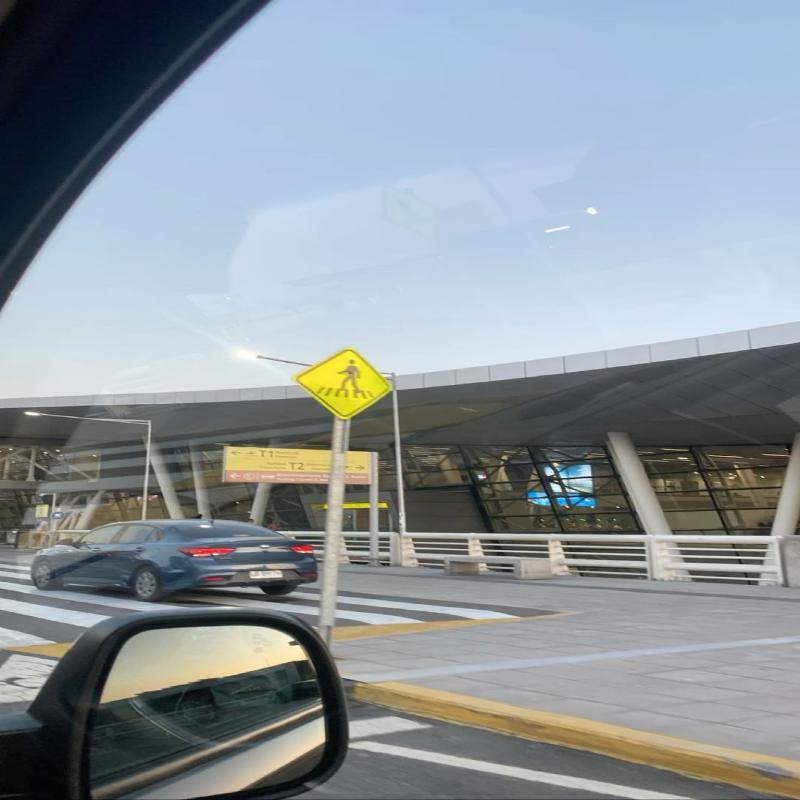license plate on a car: (250, 571, 282, 578)
